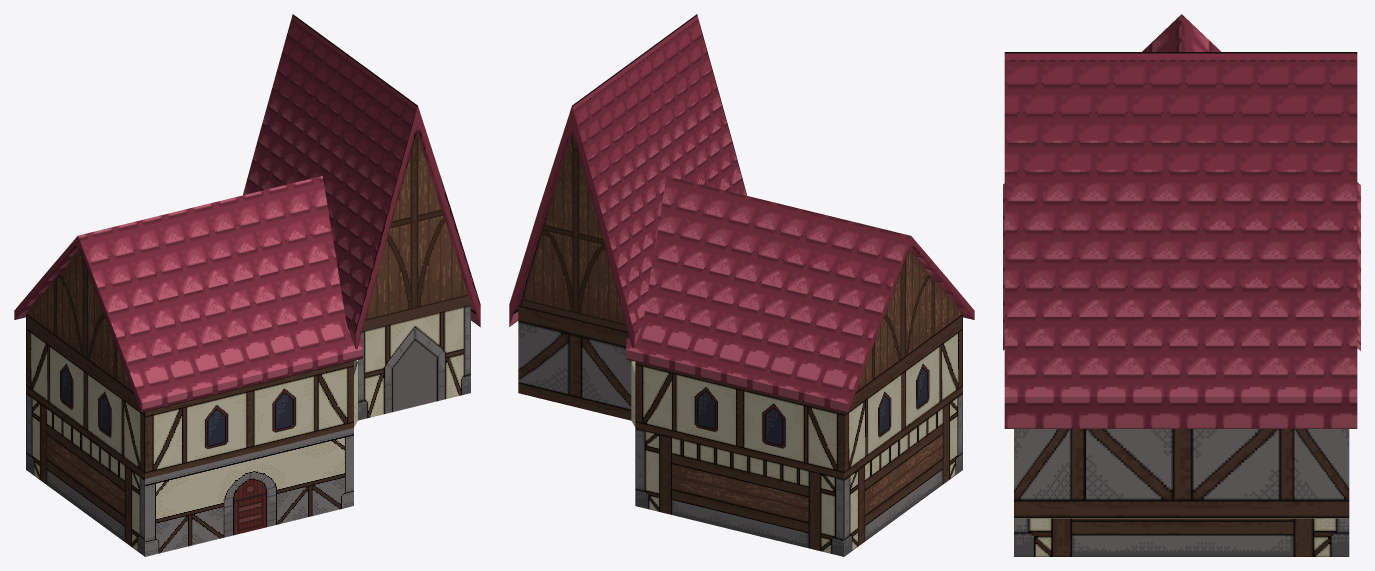
Rendered from mainhouse.fbx.
The picture shows the model from 3 angles, left to right: view 1: azimuth 30°, elevation 25°; view 2: azimuth 150°, elevation 25°; view 3: azimuth 270°, elevation 25°; orthographic projection. The views are drawn at different scales.
Visible parts, largest first — view 1: New object.036; view 2: New object.036; view 3: New object.036.
Part boxes in pixels (x1,y1,x2,y2): New object.036: [14, 14, 480, 556]; New object.036: [509, 14, 974, 556]; New object.036: [1003, 14, 1360, 556].
Bounding box in the file's own units: 477 × 521 × 309.
Materials: 2 (2 with a texture image).
